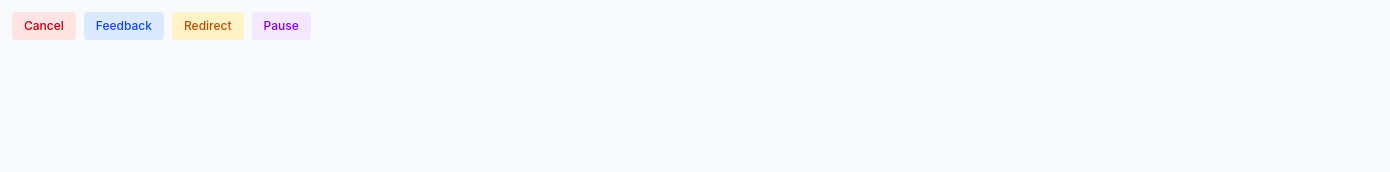
Scenario: InterventionPanel › clicking Redirect opens a text input
The width and height of the screenshot is (1390, 172).
Click the button "Redirect". click: (208, 26)
box: x1=172 y1=12 x2=244 y2=40
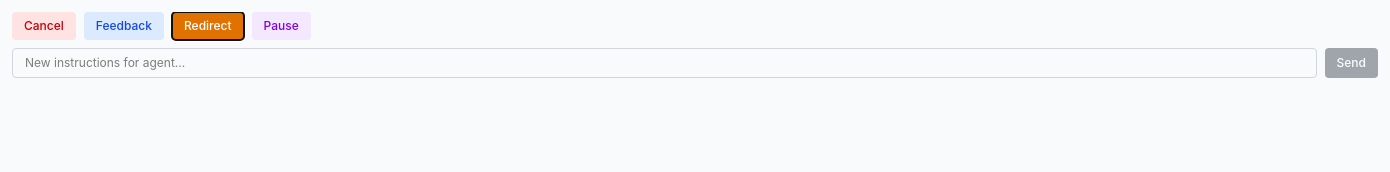
Check: the field with placeholder "New instructions for agent..." is shown, box x1=12 y1=48 x2=1317 y2=78
